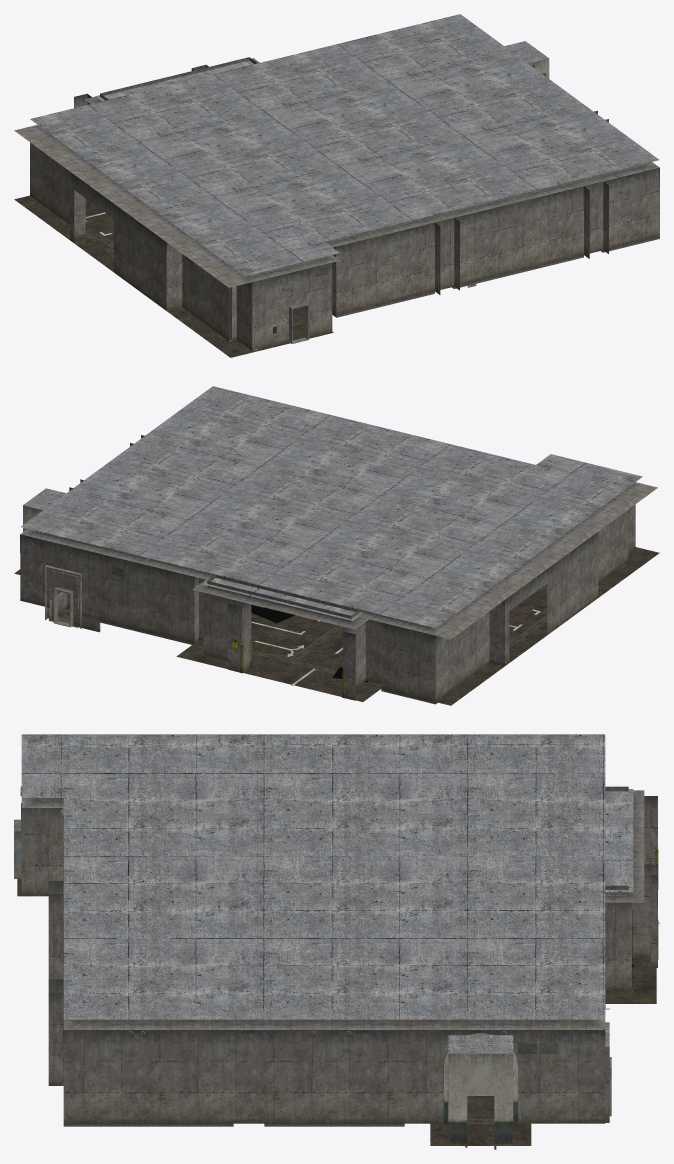
The picture shows the model from 3 angles, top to bottom: view 1: azimuth 30°, elevation 25°; view 2: azimuth 150°, elevation 25°; view 3: azimuth 270°, elevation 25°; orthographic projection. The views are drawn at different scales.
Parts seen in each view (by area): view 1: 0017_LOD_1_Group_0_Sub_13__st3_policeUndergroundCeiling04, 0003_LOD_1_Group_0_Sub_4__st3_policeUndergroundWall03, 0011_LOD_1_Group_0_Sub_7__st3_policeUndergroundFloor07, 0001_LOD_1_Group_0_Sub_2__st3_policeUndergroundSteelrai_f978; view 2: 0017_LOD_1_Group_0_Sub_13__st3_policeUndergroundCeiling04, 0003_LOD_1_Group_0_Sub_4__st3_policeUndergroundWall03, 0011_LOD_1_Group_0_Sub_7__st3_policeUndergroundFloor07, 0001_LOD_1_Group_0_Sub_2__st3_policeUndergroundSteelrai_f978, 0025_LOD_1_Group_0_Sub_21__st2_FloorWater01_Mat; view 3: 0017_LOD_1_Group_0_Sub_13__st3_policeUndergroundCeiling04, 0003_LOD_1_Group_0_Sub_4__st3_policeUndergroundWall03, 0000_LOD_1_Group_0_Sub_1__st3_policeUndergroundWall01, 0011_LOD_1_Group_0_Sub_7__st3_policeUndergroundFloor07, 0001_LOD_1_Group_0_Sub_2__st3_policeUndergroundSteelrai_f978, 0004_LOD_1_Group_0_Sub_5__st2_police1fLeftPipeline01, 0016_LOD_1_Group_0_Sub_12__st3_policeUndergroundDoor01.
Boxes of the visible parts, bbox=[...] form: 0017_LOD_1_Group_0_Sub_13__st3_policeUndergroundCeiling04: bbox=[30, 14, 659, 276]; 0003_LOD_1_Group_0_Sub_4__st3_policeUndergroundWall03: bbox=[14, 57, 659, 350]; 0011_LOD_1_Group_0_Sub_7__st3_policeUndergroundFloor07: bbox=[14, 195, 333, 357]; 0001_LOD_1_Group_0_Sub_2__st3_policeUndergroundSteelrai_f978: bbox=[85, 231, 659, 340]; 0017_LOD_1_Group_0_Sub_13__st3_policeUndergroundCeiling04: bbox=[21, 386, 642, 628]; 0003_LOD_1_Group_0_Sub_4__st3_policeUndergroundWall03: bbox=[20, 435, 657, 701]; 0011_LOD_1_Group_0_Sub_7__st3_policeUndergroundFloor07: bbox=[14, 547, 659, 705]; 0001_LOD_1_Group_0_Sub_2__st3_policeUndergroundSteelrai_f978: bbox=[57, 591, 547, 704]; 0025_LOD_1_Group_0_Sub_21__st2_FloorWater01_Mat: bbox=[251, 605, 367, 682]; 0017_LOD_1_Group_0_Sub_13__st3_policeUndergroundCeiling04: bbox=[21, 734, 633, 1053]; 0003_LOD_1_Group_0_Sub_4__st3_policeUndergroundWall03: bbox=[21, 734, 657, 1123]; 0000_LOD_1_Group_0_Sub_1__st3_policeUndergroundWall01: bbox=[443, 1034, 517, 1143]; 0011_LOD_1_Group_0_Sub_7__st3_policeUndergroundFloor07: bbox=[17, 879, 656, 1145]; 0001_LOD_1_Group_0_Sub_2__st3_policeUndergroundSteelrai_f978: bbox=[63, 849, 658, 1126]; 0004_LOD_1_Group_0_Sub_5__st2_police1fLeftPipeline01: bbox=[20, 786, 605, 1053]; 0016_LOD_1_Group_0_Sub_12__st3_policeUndergroundDoor01: bbox=[14, 819, 611, 1116].
Size of the model in its own units: 30.7 by 5.45 by 26.35.
